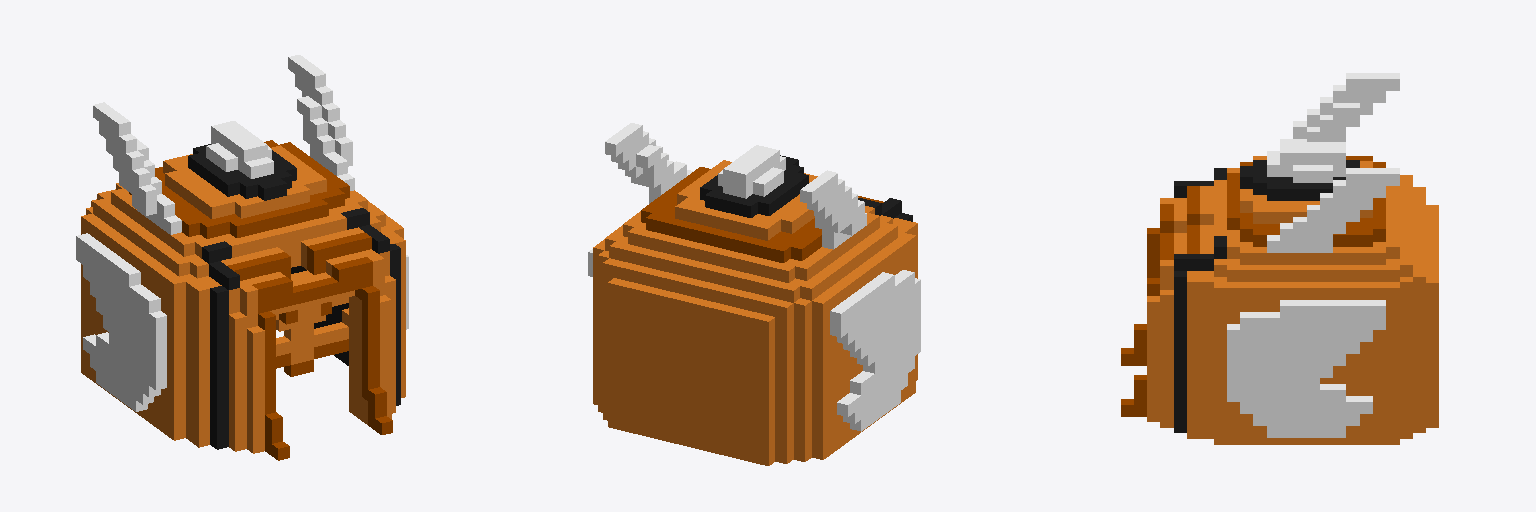
3 renders of one model, left to right at view 1: azimuth 30°, elevation 25°; view 2: azimuth 150°, elevation 25°; view 3: azimuth 270°, elevation 25°, orthographic.
Parts seen in each view (by area): view 1: object 1; view 2: object 1; view 3: object 1.
Part boxes in pixels (left/top/right/bottom): object 1: left=76, top=55, right=408, bottom=460; object 1: left=588, top=123, right=920, bottom=465; object 1: left=1121, top=73, right=1438, bottom=444.
Size of the model in its own units: 2.2 by 2.2 by 2.4.
1 materials, 1 textured.